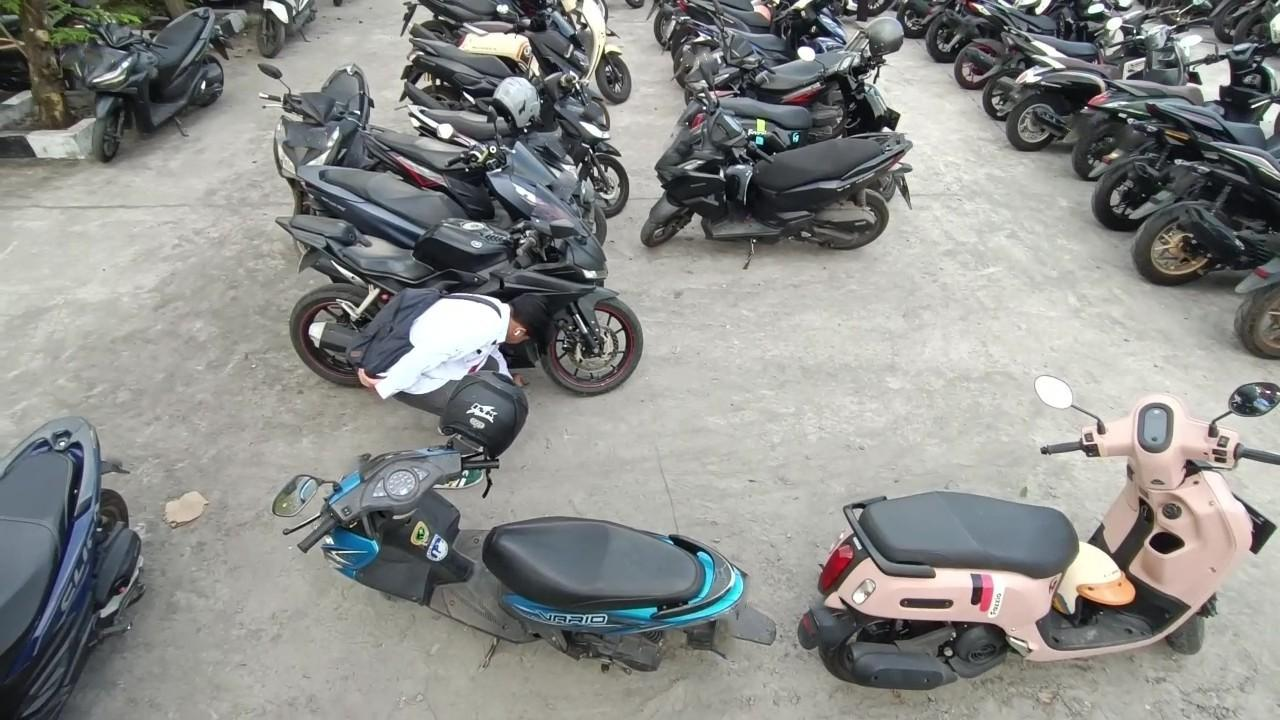motorcycle: (254, 367, 779, 676), (805, 368, 1280, 703), (267, 196, 646, 416), (294, 80, 595, 281), (637, 83, 907, 257), (0, 414, 146, 719), (1071, 14, 1280, 182), (1004, 0, 1212, 159), (46, 4, 239, 164), (400, 0, 610, 129), (676, 7, 876, 134), (260, 56, 377, 237), (450, 0, 638, 109)
